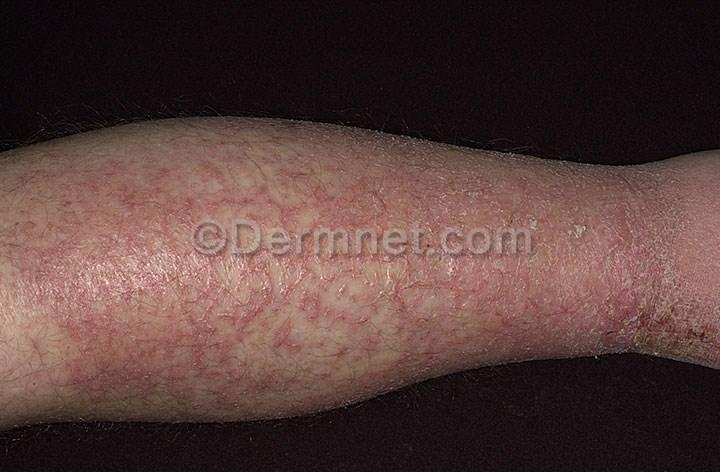Eczema: (37, 258, 235, 395), (243, 267, 575, 348), (595, 175, 715, 350), (195, 154, 460, 221), (11, 162, 188, 242)
